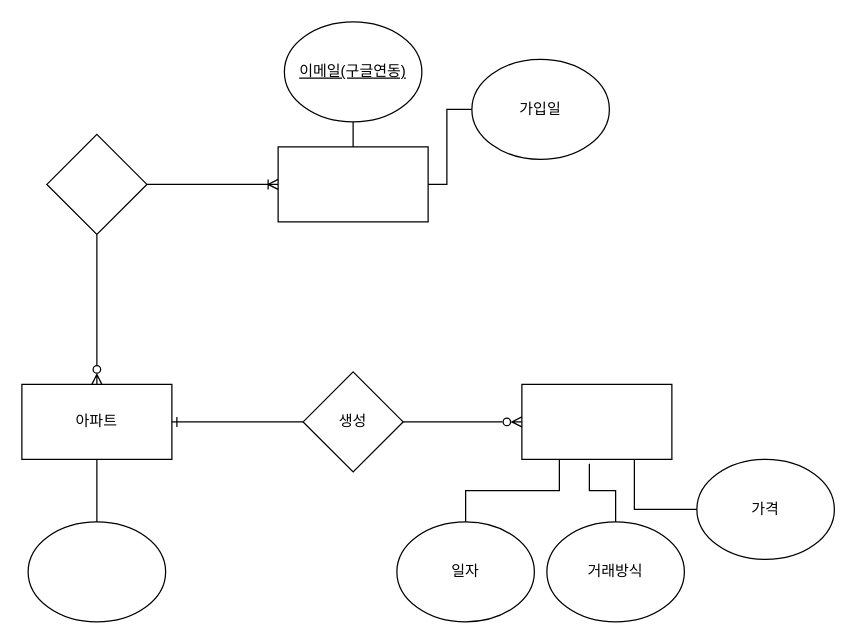
Image size: 856x644. Some labels were removed from this diagram. The box of each missing label's shape, as (x1, y1, x2, y2) in pixels:
가격정보: (521, 383, 672, 459)
아파트명: (27, 521, 166, 622)
작성: (46, 133, 147, 234)
회원: (277, 146, 428, 222)
